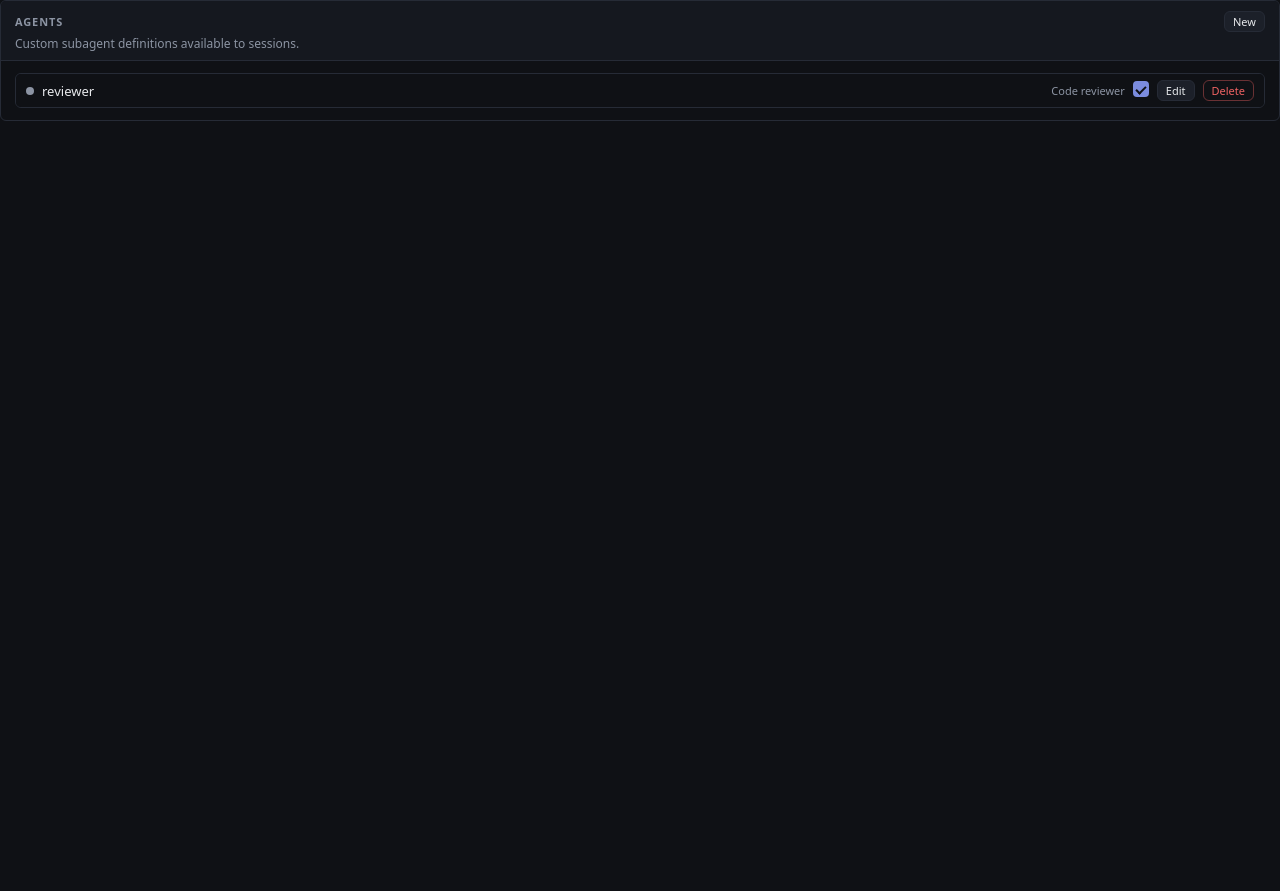
Test: AgentDefinitionsSection › opens the edit form prefilled for the row when Edit is clicked
This screenshot has width=1280, height=891.
Step 1. Click the button "Edit" → {"x": 1176, "y": 91}, box [1157,80,1194,101]
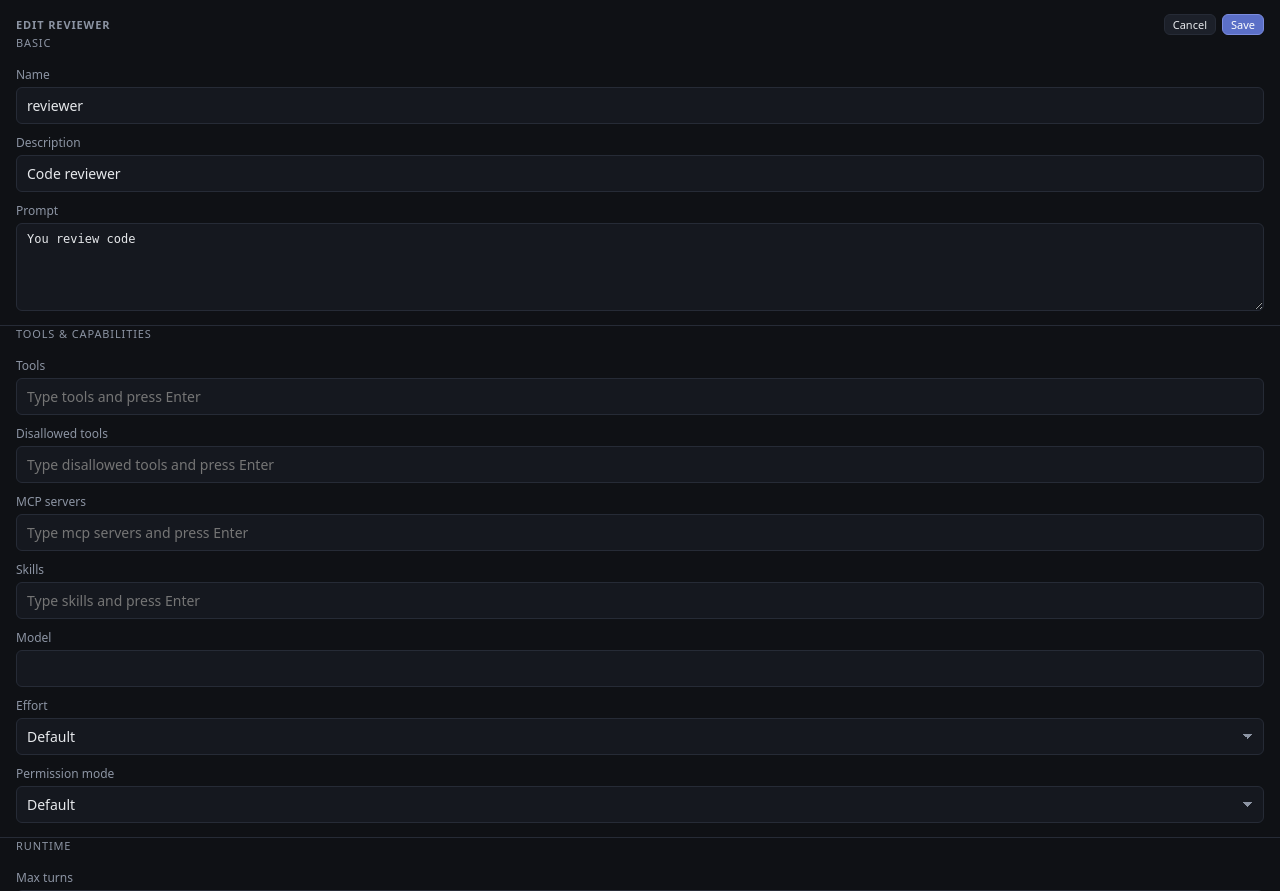
Result: the heading "Edit reviewer" is shown at [16,17,110,32]
Result: the field labelled "Name" is disabled at [16,87,1264,124]
Result: the text box labelled "Prompt" holds "You review code" at [16,223,1264,311]
